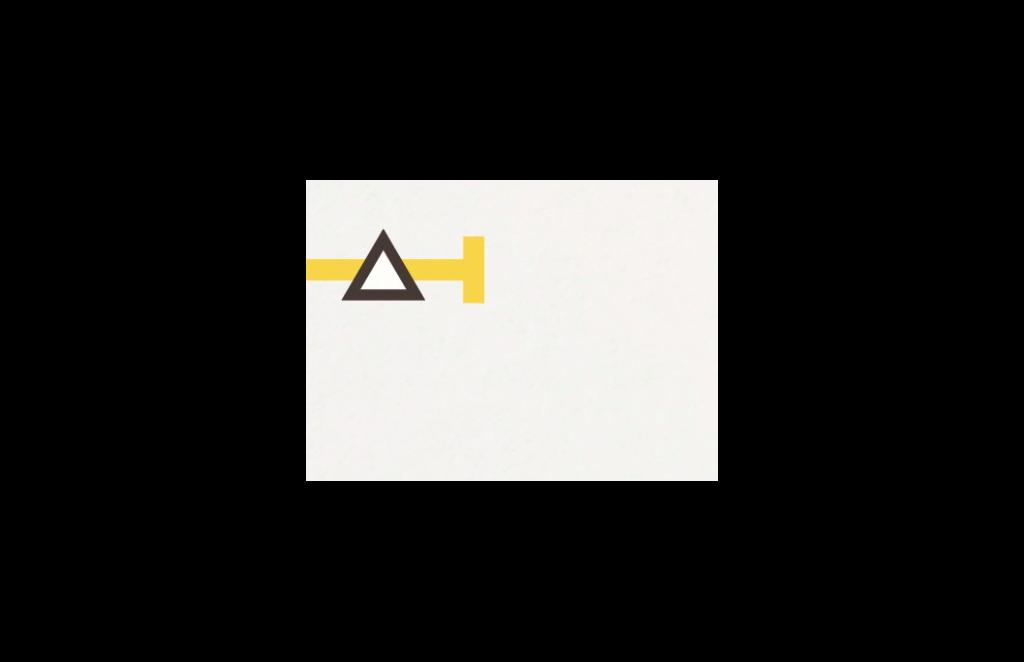connected_station: (337, 222, 433, 317)
line_endpoint: (442, 223, 514, 322)
